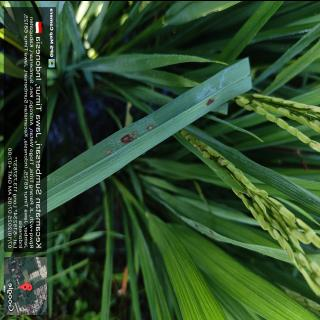Blast: (119, 127, 137, 145), (204, 94, 215, 108), (144, 122, 155, 132), (104, 146, 112, 156)
